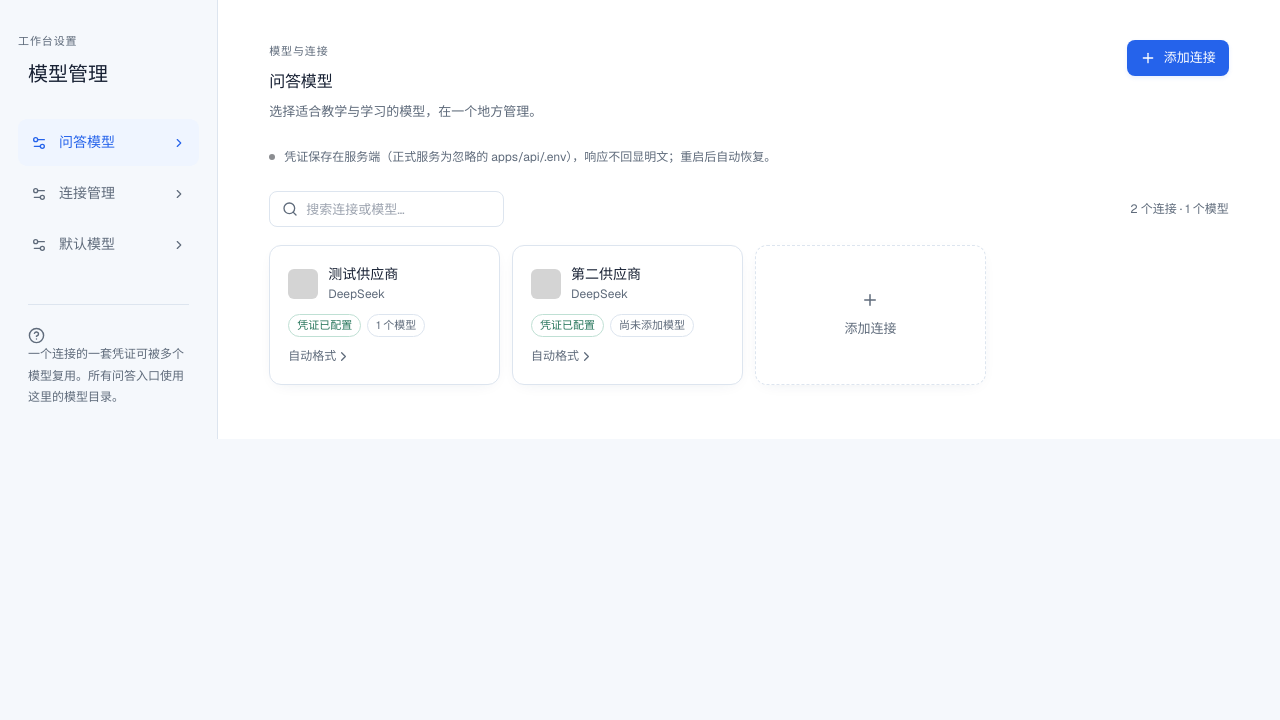
模型管理审查回归 › 模型移到另一连接后详情加载目标连接草稿（MR-08）
The image size is (1280, 720).
Click the button with aria-label "打开 测试供应商 的详情" at (385, 315), box [269,245,500,385]
(page scrolled)
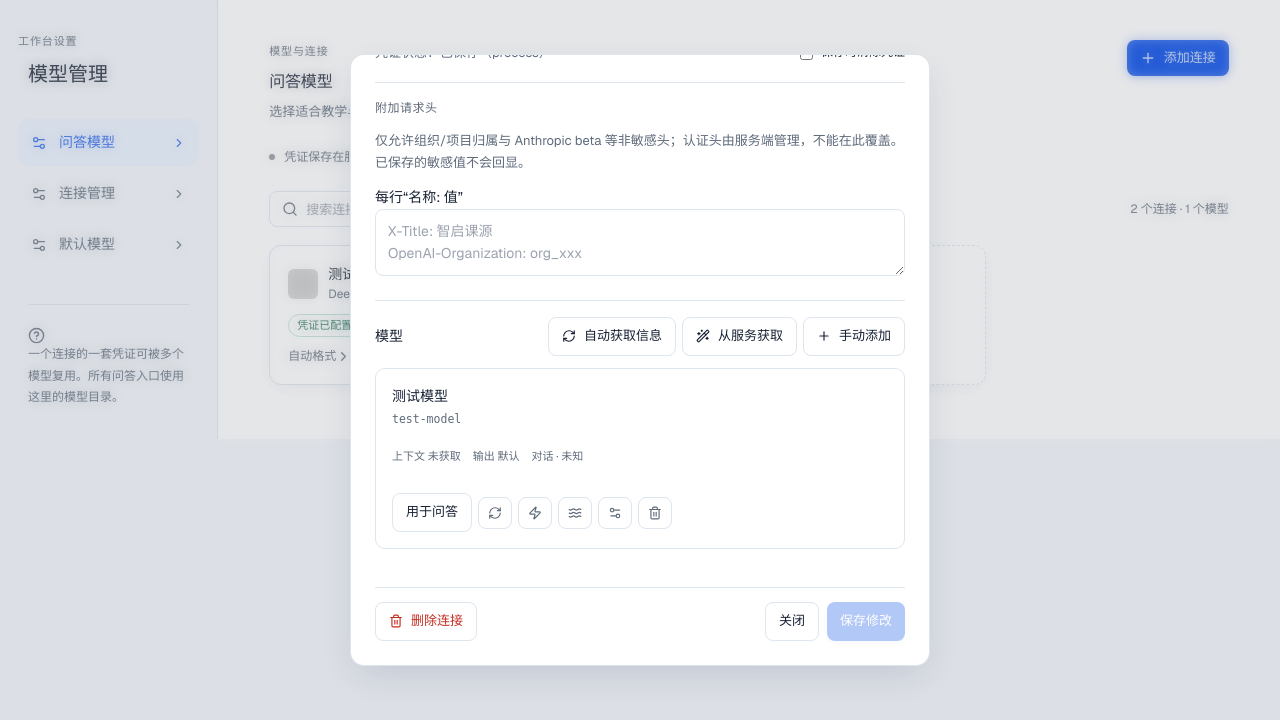
Click the button named "编辑 测试模型" at (615, 513), box [598,497,632,529]
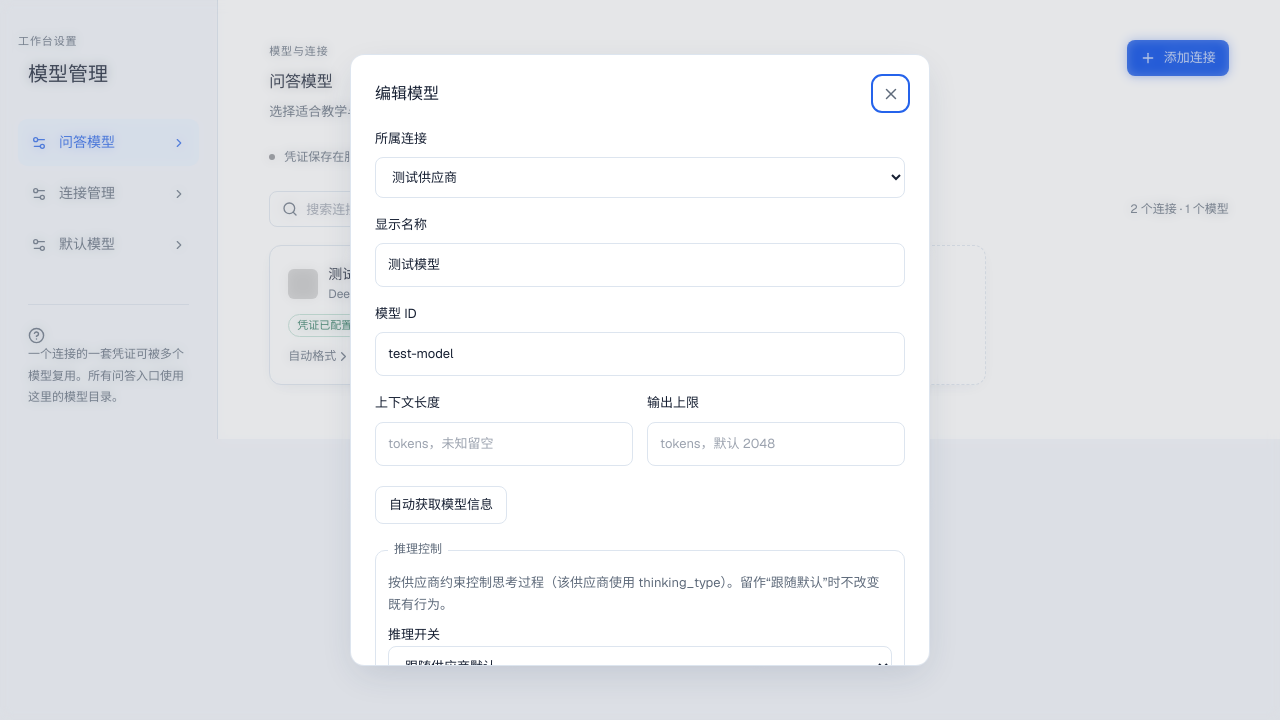
Select "第二供应商" in the dropdown labelled "所属连接" at (640, 178), box [375,157,905,198]
(page scrolled)
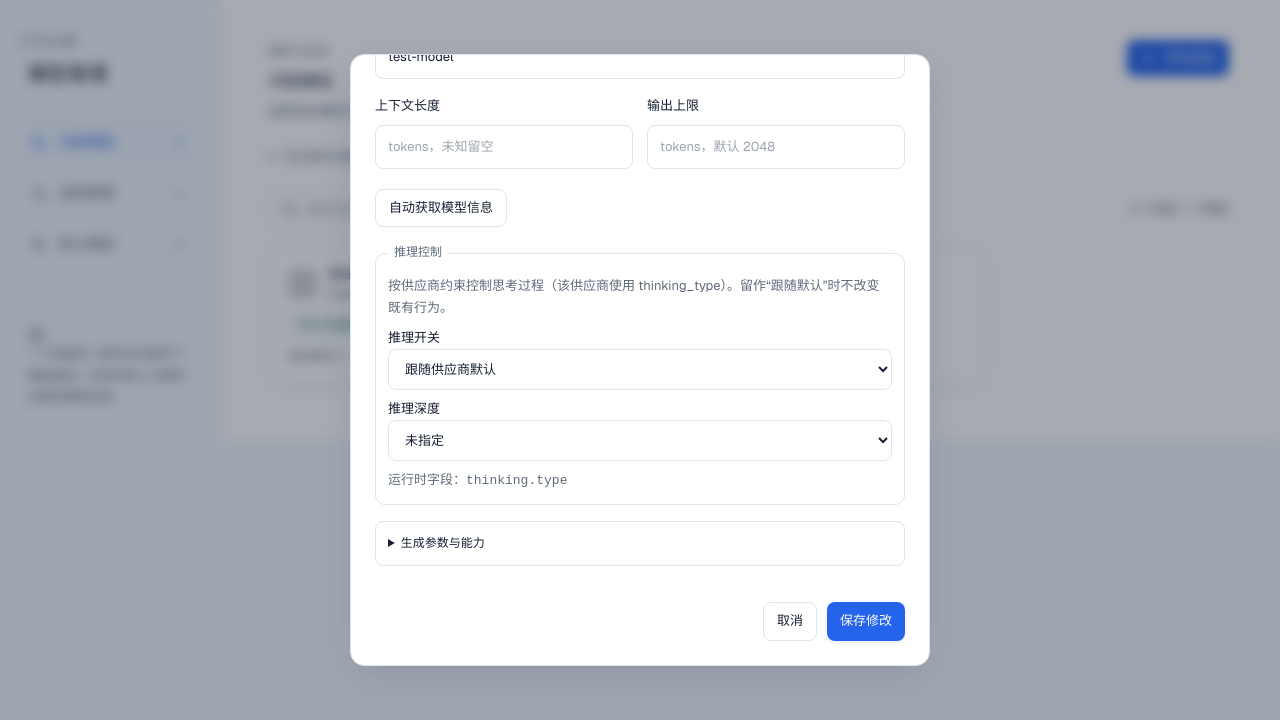
Click the button "保存修改" at (866, 622), box [827,602,905,641]
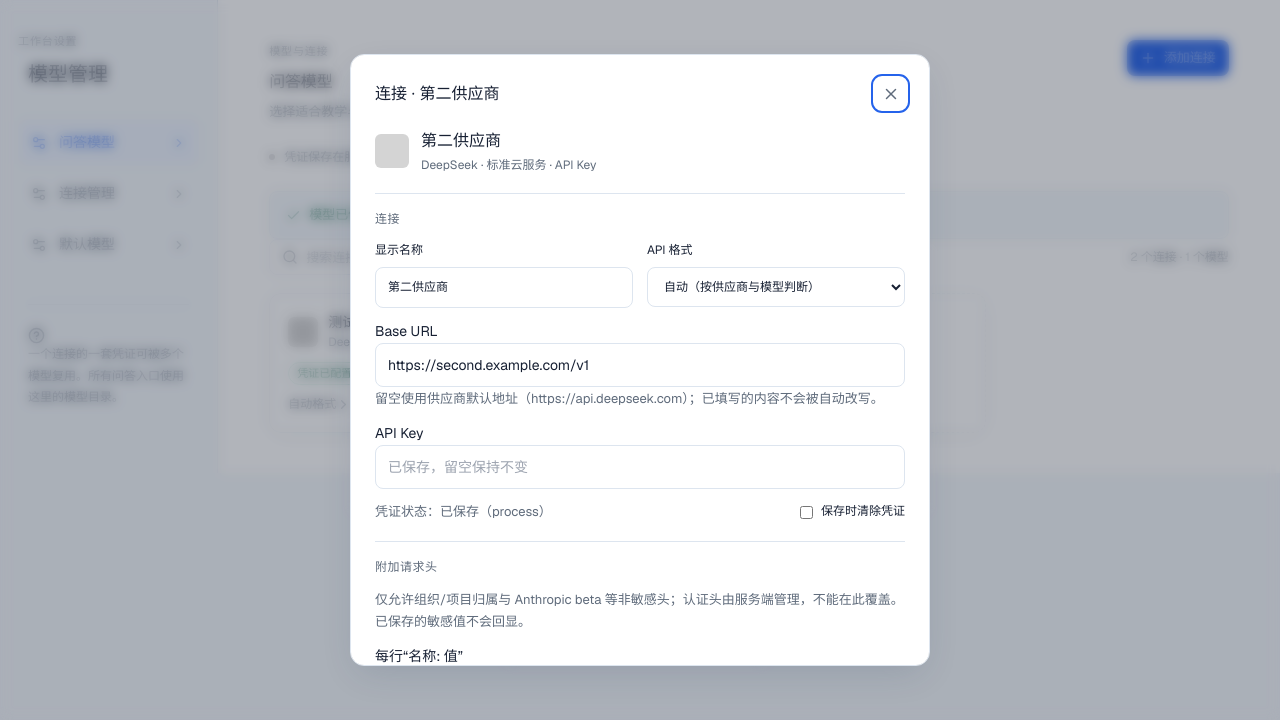
Expected: the text "模型已保存" is shown, [269,191,1229,239]
Expected: the dialog "连接 · 第二供应商" is shown, [350,54,930,666]
Expected: the field labelled "Base URL" holds "https://second.example.com/v1", [375,343,905,387]
